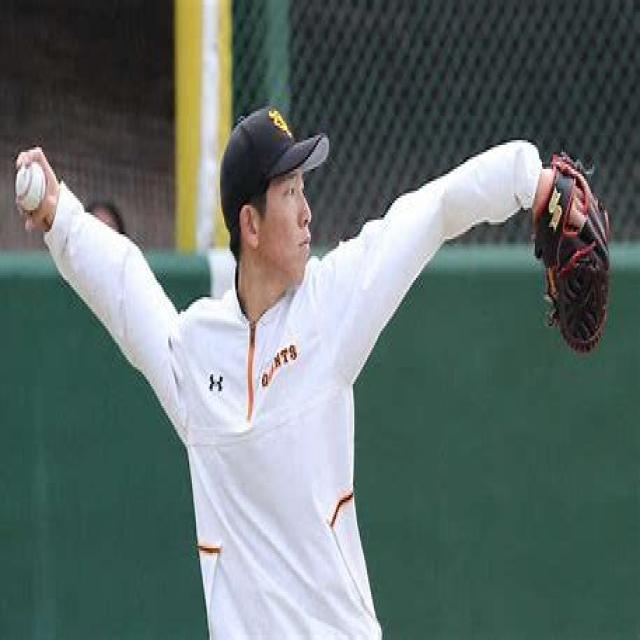ball: (13, 162, 48, 214)
